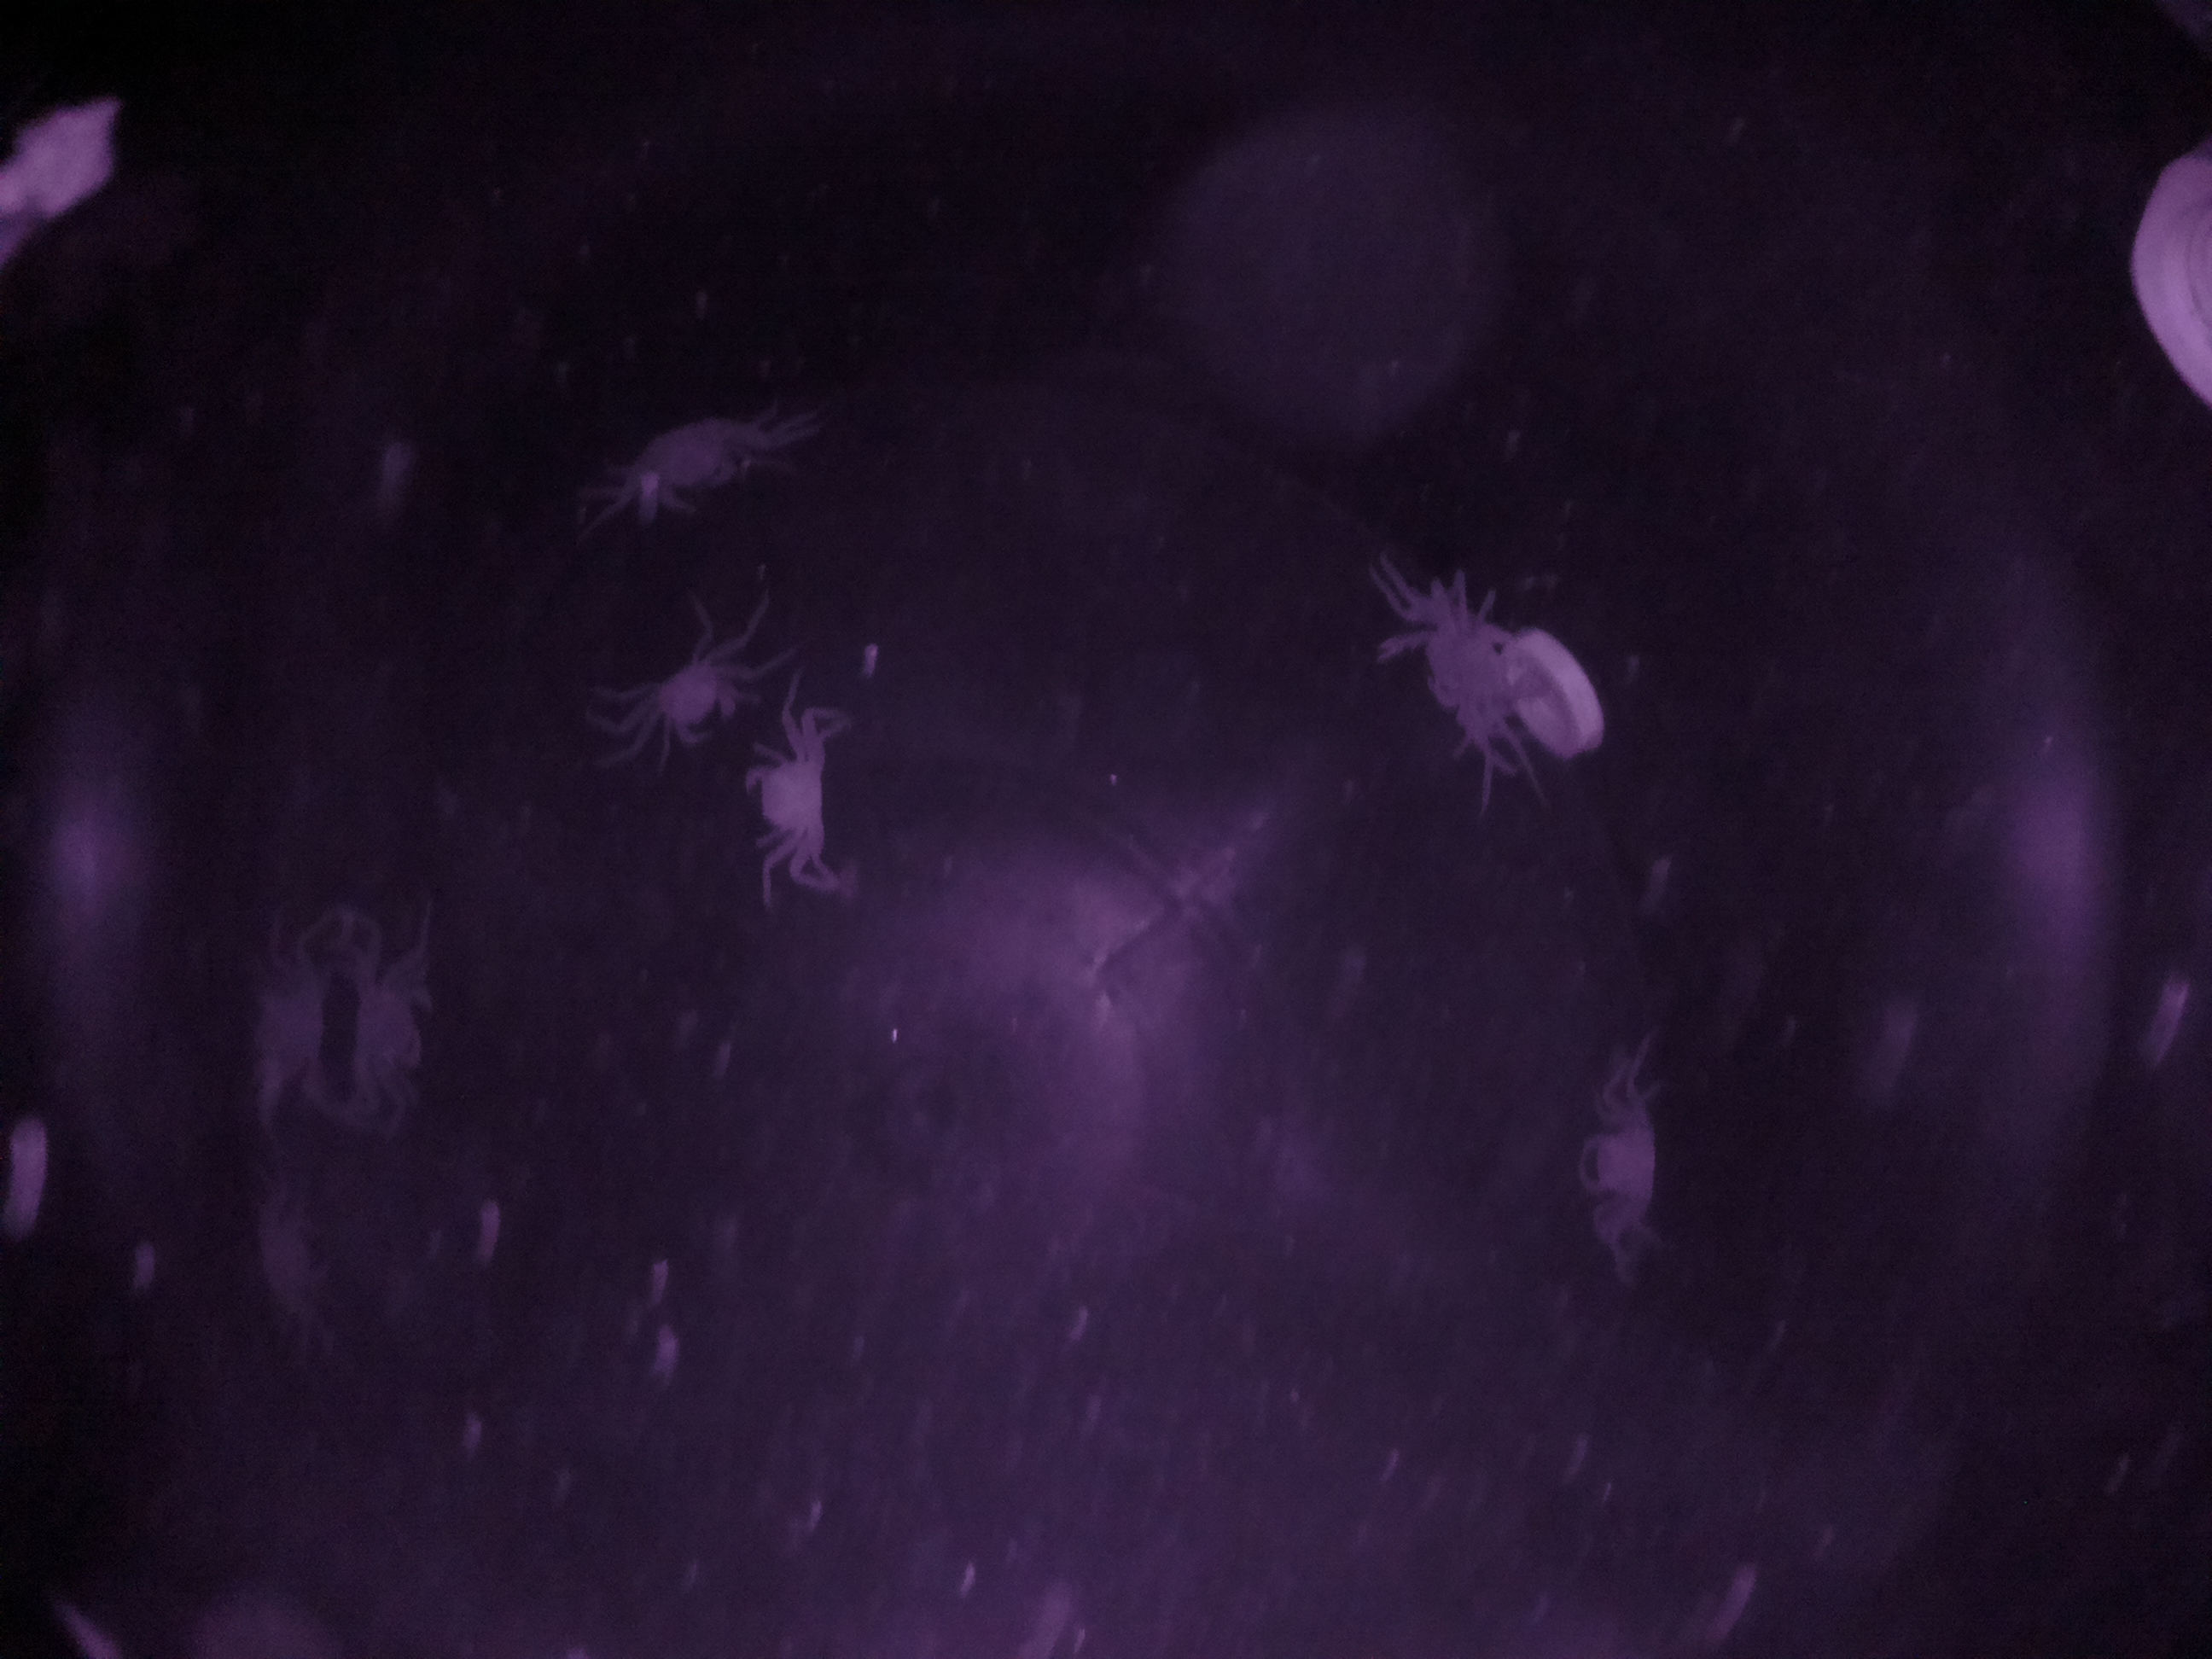Crab: (714, 699, 876, 871), (1555, 1077, 1696, 1248)
